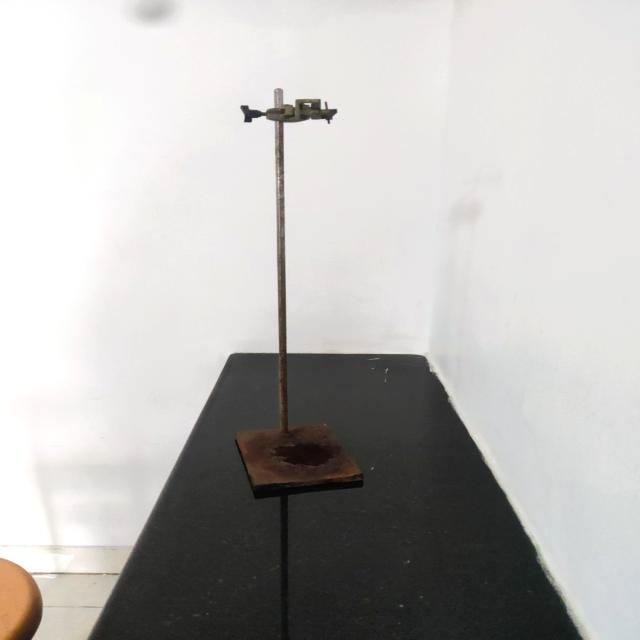Burette_Stands: (215, 73, 402, 510)
